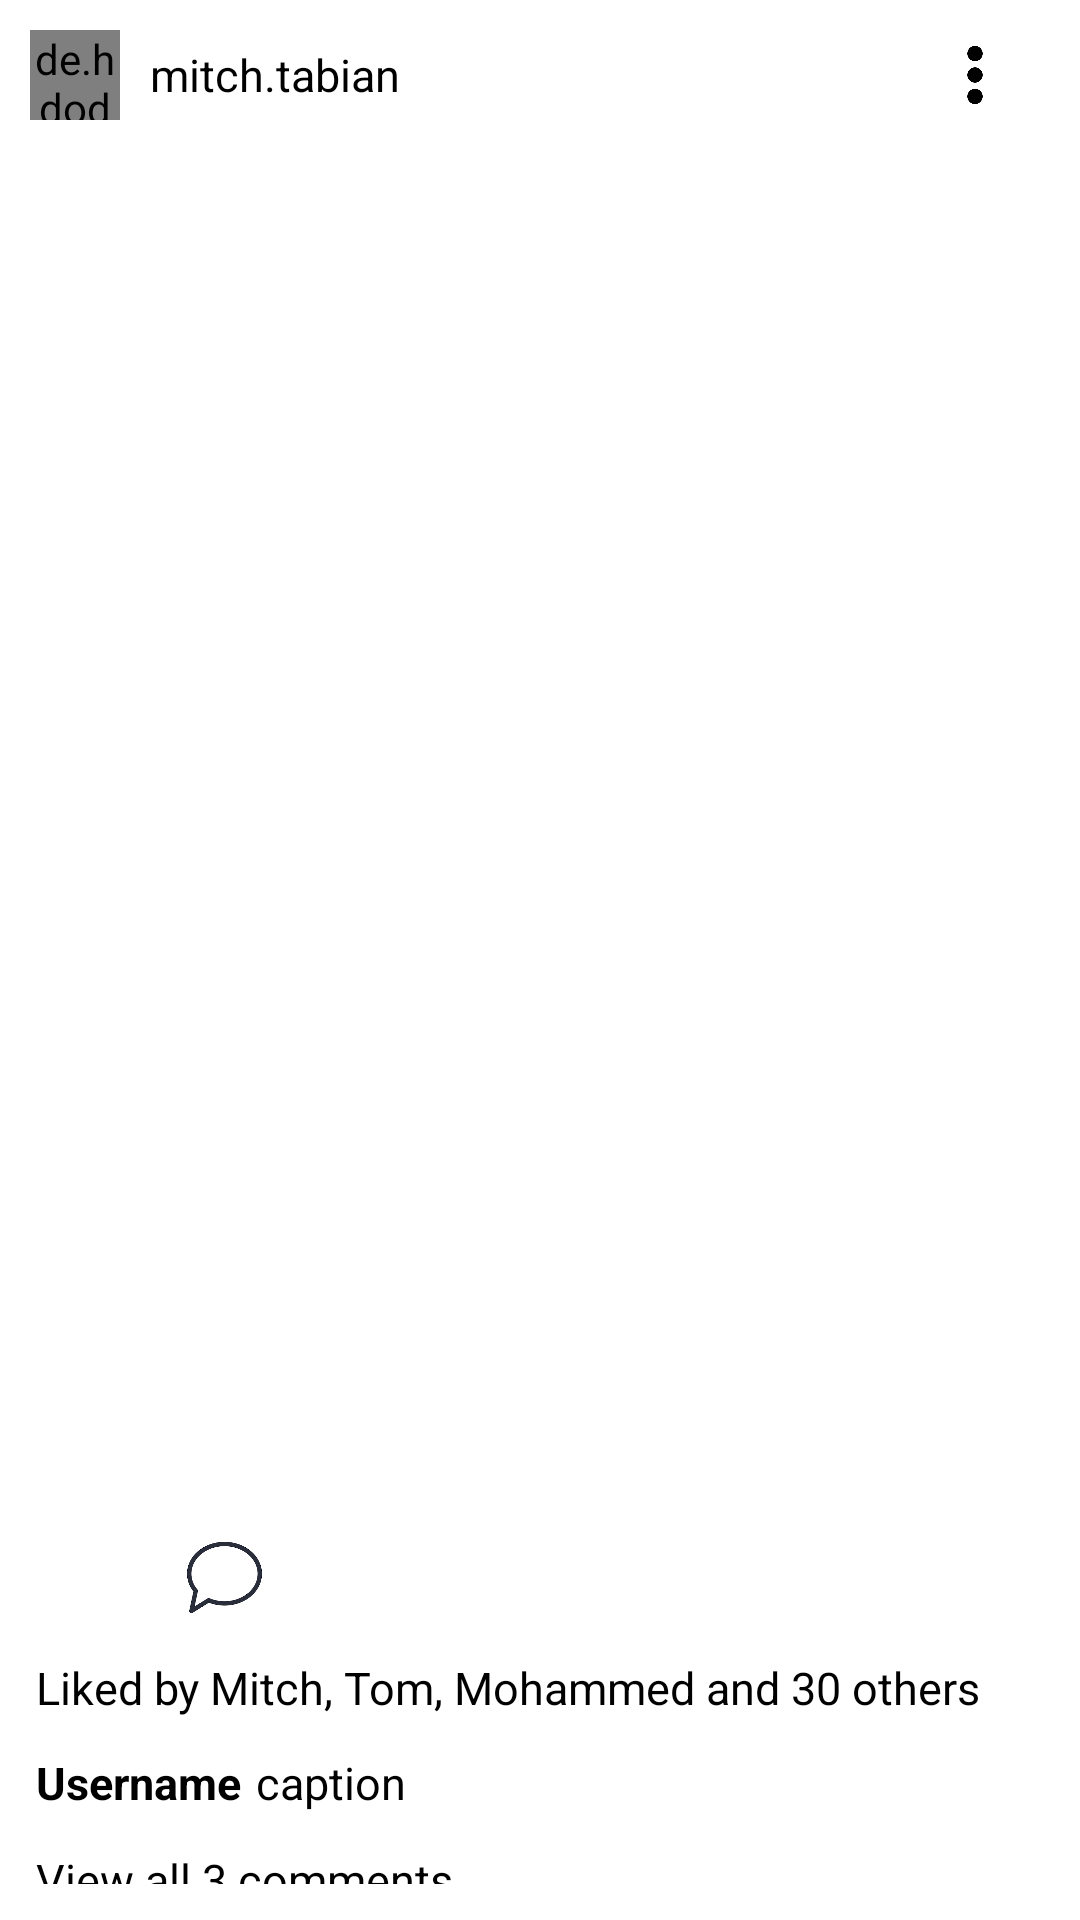

Icon click points for this 1080*1920 phone screenshot, format point (x, y):
speech bubble: point (224, 1577)
